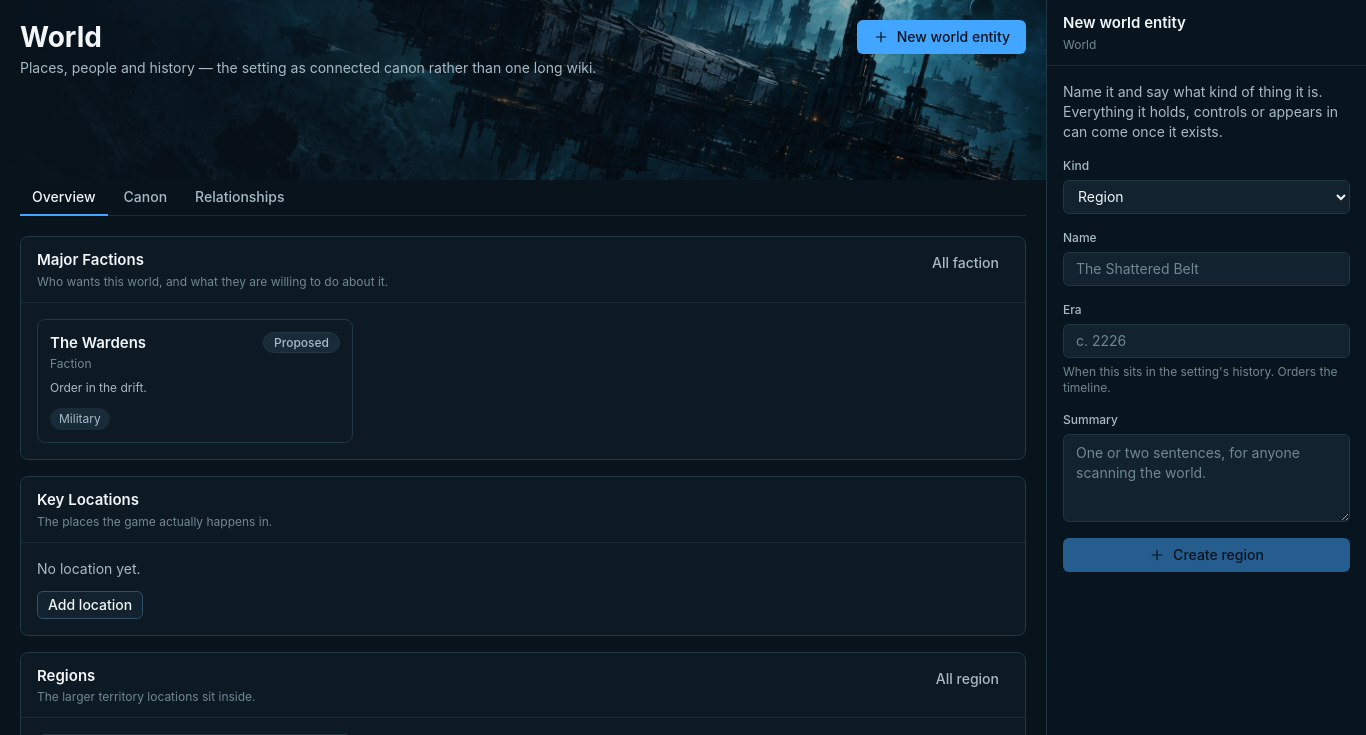
Test case: World workspace › relationships › names an unclaimed place as the finding rather than showing a blank panel
Expected: the heading "Major Factions" is shown, [37,250,144,269]
What coordinates should you click on to do the following:
click the tab "Relationships"
I would click on:
 (240, 198)
Its box is [183,180,296,216].
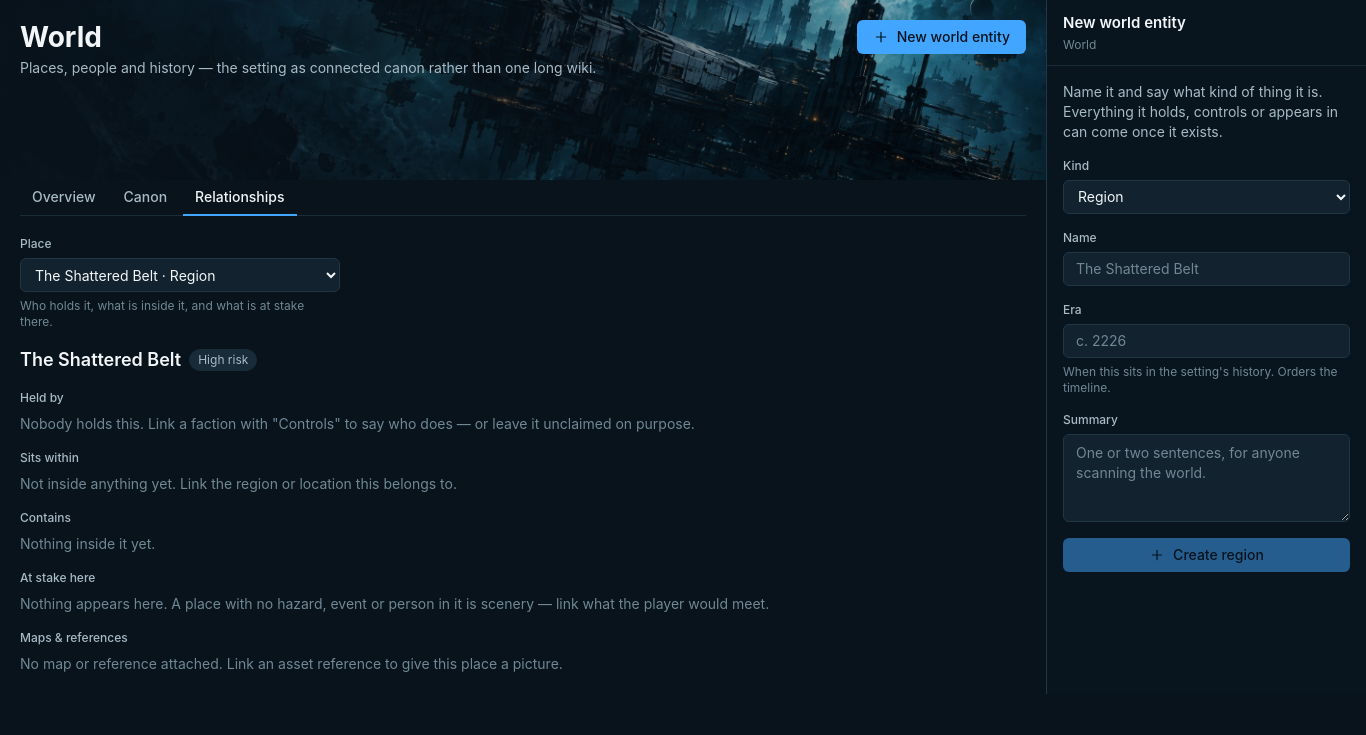
Now the text "Nobody holds this" is shown, box [20,415,695,432]
Now the text "Nothing appears here" is shown, box [20,595,769,612]
